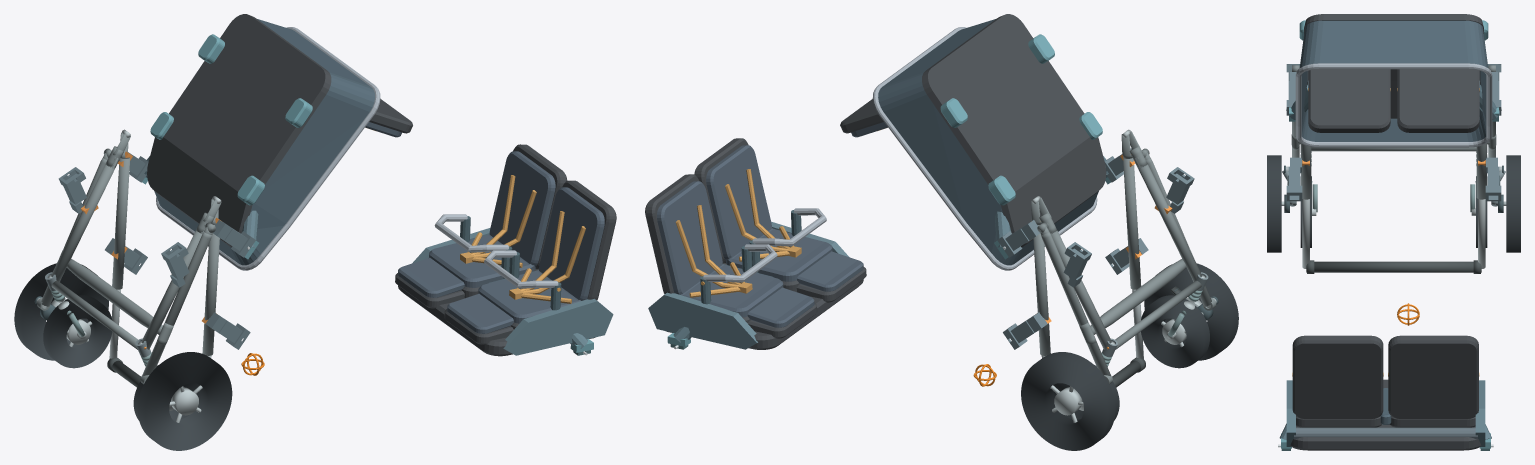
File: D33_w650_state3_wheel_M.glb
The picture shows the model from 3 angles, left to right: view 1: azimuth 30°, elevation 25°; view 2: azimuth 150°, elevation 25°; view 3: azimuth 270°, elevation 25°; orthographic projection. The views are drawn at different scales.
Parts seen in each view (by area): view 1: D33_Lower, D33_Upper, RL_tire.011, FR_tire.011, RR_tire.011, main_upper_1.012, V46_rearbar.011, main_lower_1.012, V46_rear_leg_-1.011, main_upper_-1.012, main_lower_-1.012, front_fixed_round_tube.011 (+4 smaller); view 2: D33_Lower, D33_Upper, RR_tire.011, FL_tire.011, RL_tire.011, main_upper_-1.012, main_lower_-1.012, V46_rearbar.011, V46_rear_leg_1.011, main_upper_1.012, main_lower_1.012, front_fixed_round_tube.011 (+5 smaller); view 3: D33_Lower, D33_Upper, round_handle.013, RL_tire.011, RR_tire.011, front_fixed_round_tube.011, Universal_Cabin_Receiver_H_1, Universal_Cabin_Receiver_H_-1, main_upper_1.012, main_upper_-1.012, handle_slider_1.013, handle_slider_-1.013 (+7 smaller).
Part boxes in pixels (x1,y1,x2,y2): D33_Lower: [147, 14, 412, 270]; D33_Upper: [395, 144, 616, 356]; RL_tire.011: [137, 352, 232, 450]; FR_tire.011: [43, 295, 112, 368]; RR_tire.011: [14, 263, 108, 360]; main_upper_1.012: [112, 158, 129, 289]; V46_rearbar.011: [66, 259, 162, 334]; main_lower_1.012: [51, 158, 118, 281]; V46_rear_leg_-1.011: [142, 232, 211, 375]; main_upper_-1.012: [202, 225, 219, 355]; main_lower_-1.012: [141, 230, 204, 349]; front_fixed_round_tube.011: [51, 280, 137, 349]; D33_Lower: [840, 14, 1106, 270]; D33_Upper: [645, 138, 866, 349]; RR_tire.011: [1021, 352, 1115, 450]; FL_tire.011: [1141, 295, 1209, 368]; RL_tire.011: [1144, 263, 1238, 360]; main_upper_-1.012: [1123, 158, 1141, 289]; main_lower_-1.012: [1134, 158, 1202, 281]; V46_rearbar.011: [1090, 259, 1186, 334]; V46_rear_leg_1.011: [1041, 232, 1110, 376]; main_upper_1.012: [1033, 225, 1050, 355]; main_lower_1.012: [1048, 229, 1111, 349]; front_fixed_round_tube.011: [1115, 280, 1201, 349]; D33_Lower: [1295, 14, 1492, 147]; D33_Upper: [1286, 335, 1485, 450]; round_handle.013: [1306, 261, 1481, 272]; RL_tire.011: [1267, 155, 1281, 252]; RR_tire.011: [1506, 155, 1520, 252]; front_fixed_round_tube.011: [1311, 147, 1476, 151]; Universal_Cabin_Receiver_H_1: [1485, 157, 1501, 201]; Universal_Cabin_Receiver_H_-1: [1286, 157, 1302, 201]; main_upper_1.012: [1476, 143, 1486, 199]; main_upper_-1.012: [1301, 143, 1311, 199]; handle_slider_1.013: [1478, 199, 1485, 268]; handle_slider_-1.013: [1302, 199, 1309, 268].
Size of the model in its own units: 1.68 by 1.1 by 0.781.
